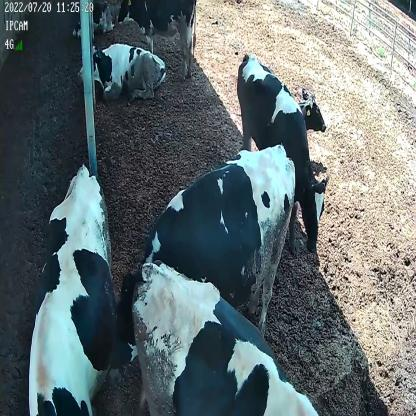cow: (112, 142, 297, 387), (27, 154, 113, 416), (235, 47, 330, 259), (117, 0, 200, 83), (80, 36, 167, 100)
